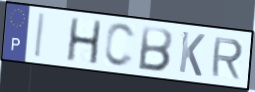B: (135, 24, 175, 74)
C: (102, 21, 138, 70)
H: (64, 16, 104, 67)
I: (33, 11, 48, 61)
K: (177, 29, 207, 78)
R: (209, 36, 245, 81)
